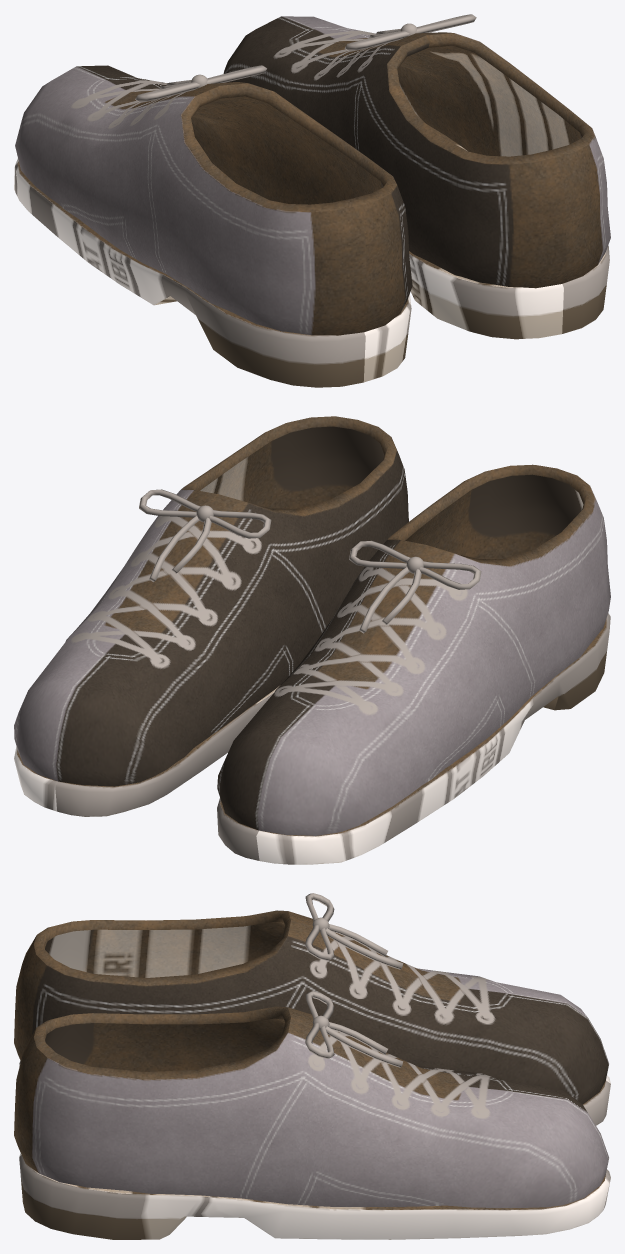
The model's file is SM_BowlingShoesB1.fbx.
3 views of the same model, one above another, from view 1: azimuth 30°, elevation 25°; view 2: azimuth 150°, elevation 25°; view 3: azimuth 270°, elevation 25° (orthographic). The views are drawn at different scales.
Visible parts, largest first — view 1: SM_BowlingShoesB1_LOD0; view 2: SM_BowlingShoesB1_LOD0; view 3: SM_BowlingShoesB1_LOD0.
Boxes of the visible parts, bbox=[...] form: SM_BowlingShoesB1_LOD0: bbox=[14, 14, 610, 387]; SM_BowlingShoesB1_LOD0: bbox=[14, 416, 610, 864]; SM_BowlingShoesB1_LOD0: bbox=[14, 893, 610, 1239].
Size of the model in its own units: 21.55 by 30.73 by 10.66.
1 material, 1 textured.
